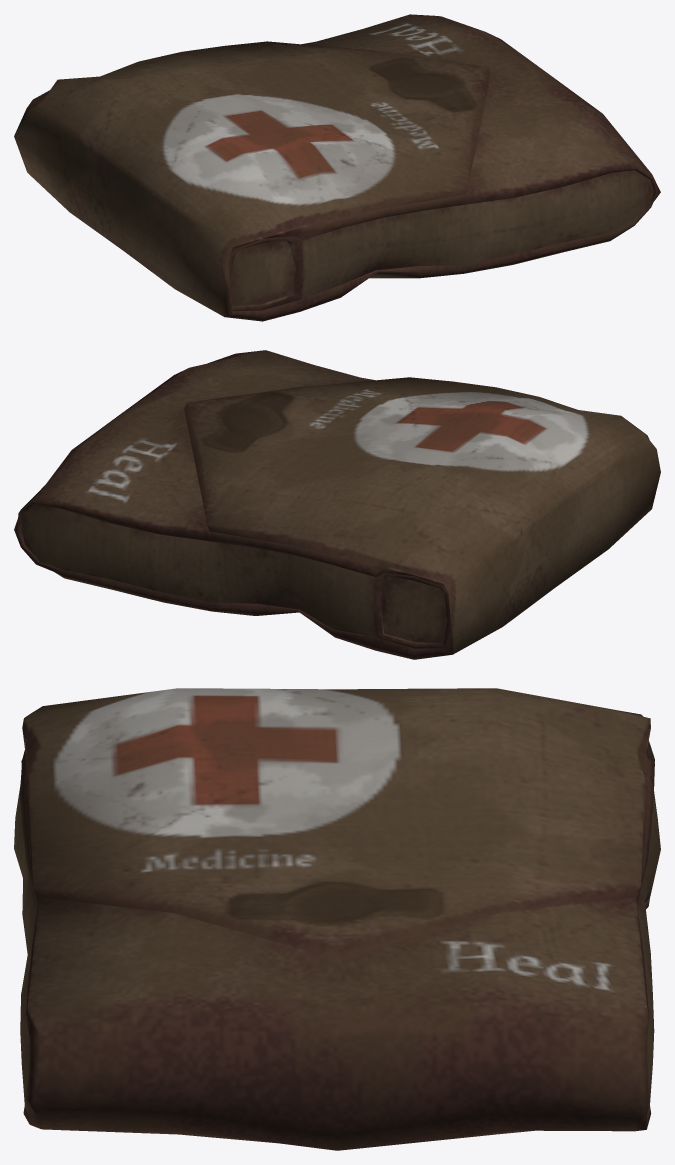
File: heal.fbx
3 renders of one model, top to bottom at view 1: azimuth 30°, elevation 25°; view 2: azimuth 150°, elevation 25°; view 3: azimuth 270°, elevation 25°, orthographic. The views are drawn at different scales.
Visible parts, largest first — view 1: Cube; view 2: Cube; view 3: Cube.
Boxes of the visible parts, x1=… form: Cube: x1=14, y1=14, x2=660, y2=321; Cube: x1=14, y1=350, x2=660, y2=659; Cube: x1=14, y1=688, x2=660, y2=1150.
Size of the model in its own units: 60.69 by 19.05 by 50.74.
1 material, 1 textured.
